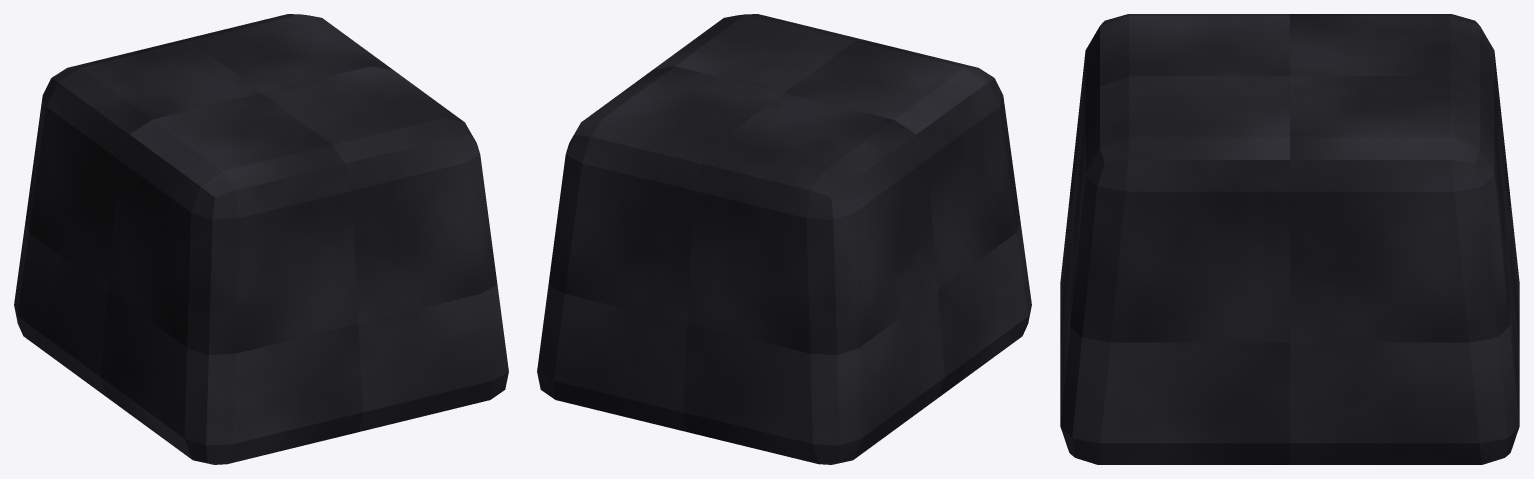
Rendered from Zombie_Hips.obj.
The picture shows the model from 3 angles, left to right: view 1: azimuth 30°, elevation 25°; view 2: azimuth 150°, elevation 25°; view 3: azimuth 270°, elevation 25°; orthographic projection. The views are drawn at different scales.
Bounding box in the file's own units: 0.3149 × 0.26 × 0.3444.
Materials: 1 (1 with a texture image).
